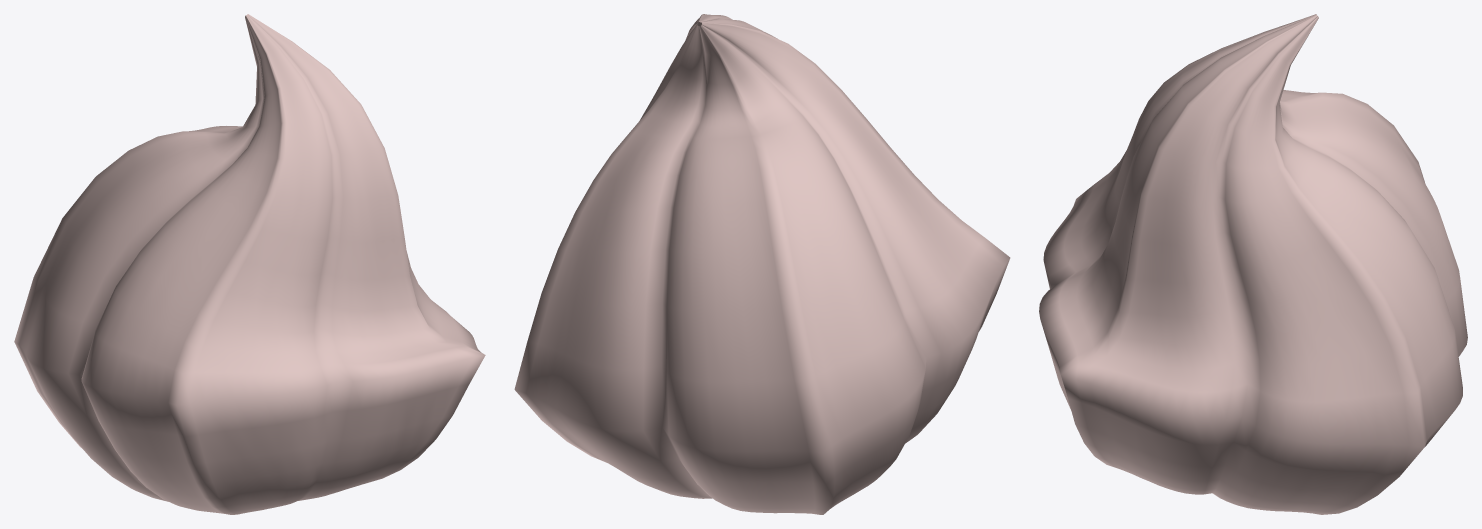
The model's file is cream-crown-draco.glb.
3 renders of one model, left to right at view 1: azimuth 30°, elevation 25°; view 2: azimuth 150°, elevation 25°; view 3: azimuth 270°, elevation 25°, orthographic. The views are drawn at different scales.
Parts seen in each view (by area): view 1: cream; view 2: cream; view 3: cream.
Boxes of the visible parts, left/top/right/bottom form: cream: left=14, top=14, right=485, bottom=514; cream: left=514, top=14, right=1010, bottom=514; cream: left=1039, top=14, right=1467, bottom=514.
Size of the model in its own units: 10.31 by 12.2 by 9.92.
